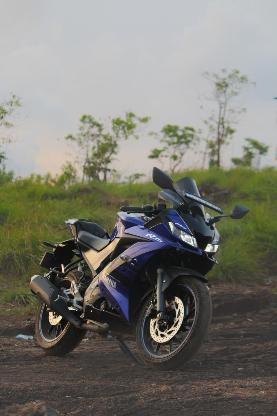bike: (20, 167, 252, 368)
